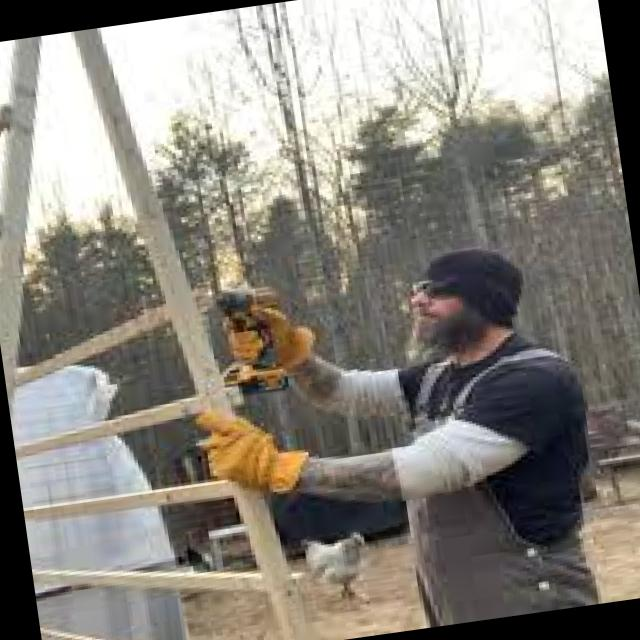gloved: (184, 390, 313, 506), (207, 292, 330, 394)
